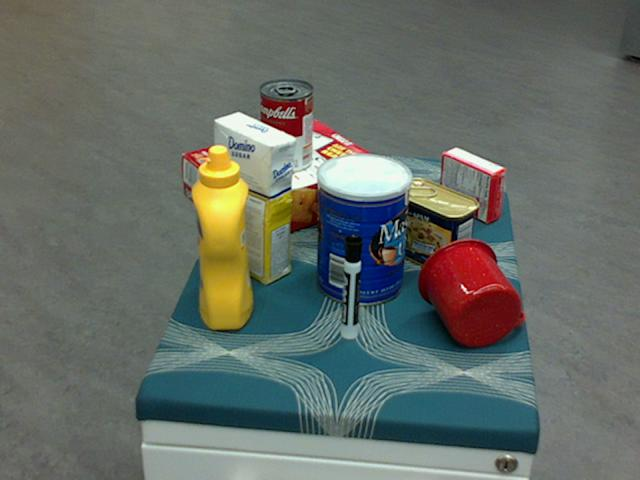cracker_box: (181, 119, 383, 248)
gelatin_box: (439, 147, 506, 223)
large_marker: (341, 233, 361, 340)
master_chef_can: (316, 153, 411, 305)
mug: (418, 237, 522, 346)
mustard_bottle: (191, 145, 252, 329)
potted_meat_can: (392, 178, 478, 273)
sugar_box: (213, 112, 294, 286)
tomato_soup_can: (258, 79, 313, 173)
tuna_fish_can: (315, 159, 385, 229)
